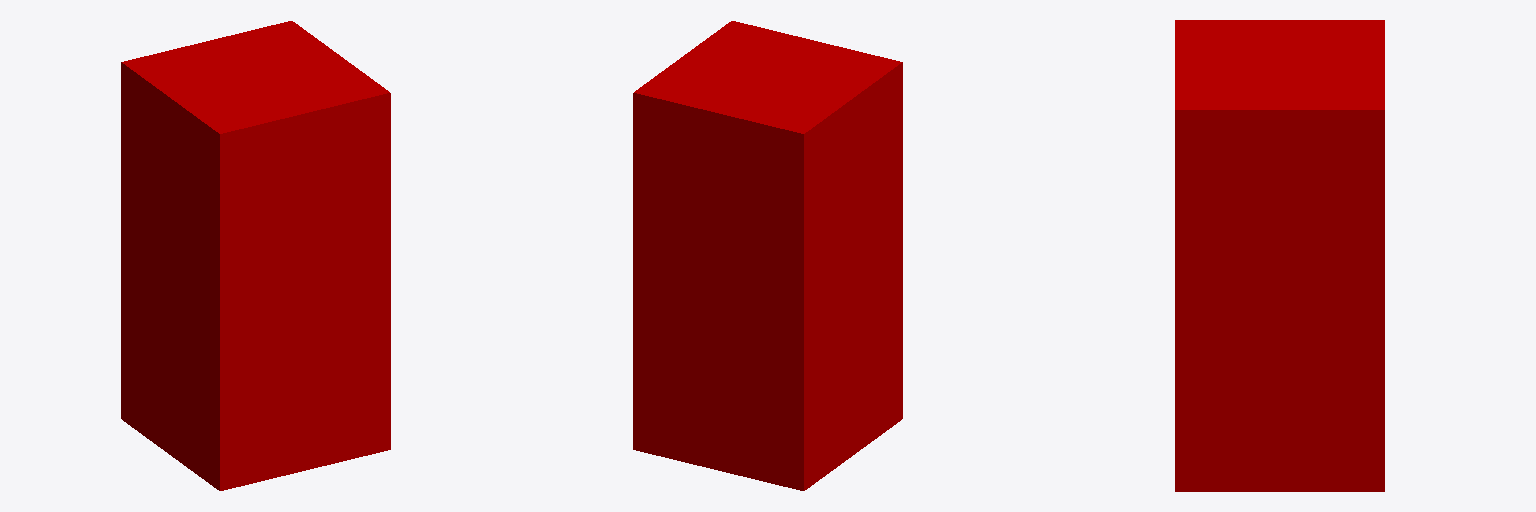
The robot description file, URDF, robot "grasp_box":
<robot name="grasp_box">

    <!-- Colours for RVIZ for geometric elements -->
    <material name="blue">
        <color rgba="0 0 0.8 1"/>
    </material>
    <material name="red">
        <color rgba="0.8 0 0 1"/>
    </material>
    <material name="green">
        <color rgba="0 0.8 0 1"/>
    </material>
    <material name="grey">
        <color rgba="0.75 0.75 0.75 1"/>
    </material>
    <material name="white">
        <color rgba="1.0 1.0 1.0 1"/>
    </material>
    <material name="black">
        <color rgba="0 0 0 1"/>
    </material>


	<!-- * * * Link Definitions * * * -->

    <link name="grasp_box_base_link">
 	    <inertial>
            <origin xyz="0 0 0" rpy="0 0 0"/>
            <mass value="0.5" />
            <inertia ixx="0.000133333333333" ixy="0.0" ixz="0.0" iyy="0.000133333333333" iyz="0.0" izz="0.000133333333333"/>
        </inertial>
        <collision>
            <origin xyz="0 0 0" rpy="0 0 0"/>
            <geometry>
                <box size="0.04 0.04 0.08"/>
            </geometry>
        </collision>
        <visual>
            <origin rpy="0.0 0 0" xyz="0 0 0"/>
            <geometry>
                <box size="0.04 0.04 0.08"/>
            </geometry>
            <material name="red"/>
        </visual>
    </link>

    <gazebo reference="grasp_box_base_link">
        <kp>100000.0</kp>
        <kd>100.0</kd>
        <mu1>0.25</mu1>
        <mu2>0.25</mu2>
        <material>Gazebo/Red</material>
    </gazebo>

</robot>

--- Facts derived from the render (not from the file) ---
Views: 3 orthographic renders of the robot side by side, from view 1: azimuth 30°, elevation 25°; view 2: azimuth 150°, elevation 25°; view 3: azimuth 270°, elevation 25°.
Model grasp_box with 1 links and 0 joints (none), rooted at grasp_box_base_link, posed all joints at 0.
Visible links, largest first — view 1: grasp_box_base_link; view 2: grasp_box_base_link; view 3: grasp_box_base_link.
Link boxes in pixels (box(x1,y1,x2,y2)): grasp_box_base_link: box(121, 21, 390, 490); grasp_box_base_link: box(633, 21, 902, 490); grasp_box_base_link: box(1175, 20, 1384, 491).
Size in the robot's own frame: 0.04 by 0.04 by 0.08 metres.
Geometry: primitives only (box / cylinder / sphere), no mesh files.